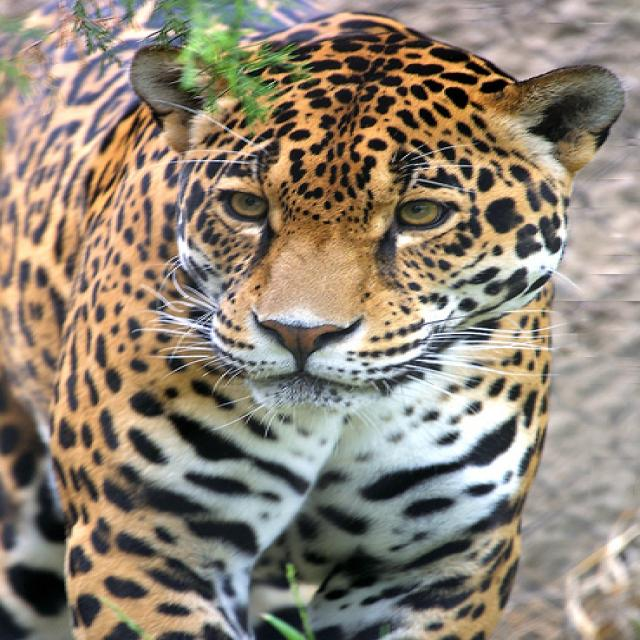Leopard: (0, 0, 624, 636)
